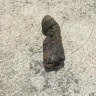Dog: (41, 16, 65, 70)
